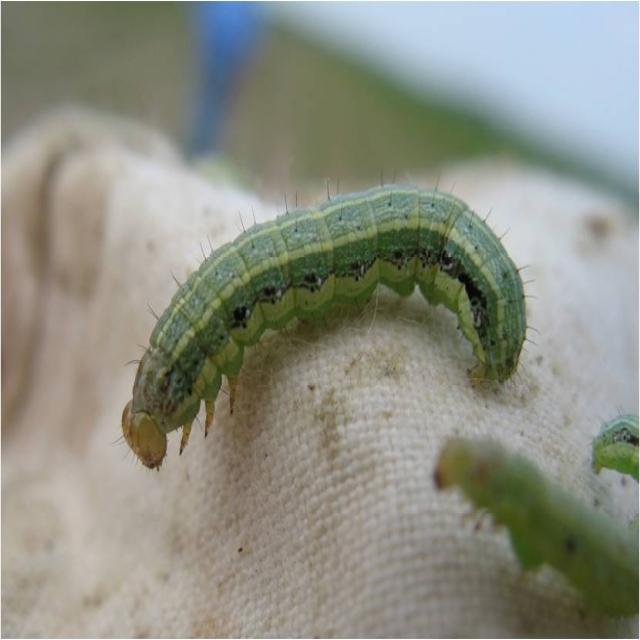Fall-armyworm: (117, 173, 532, 466)
